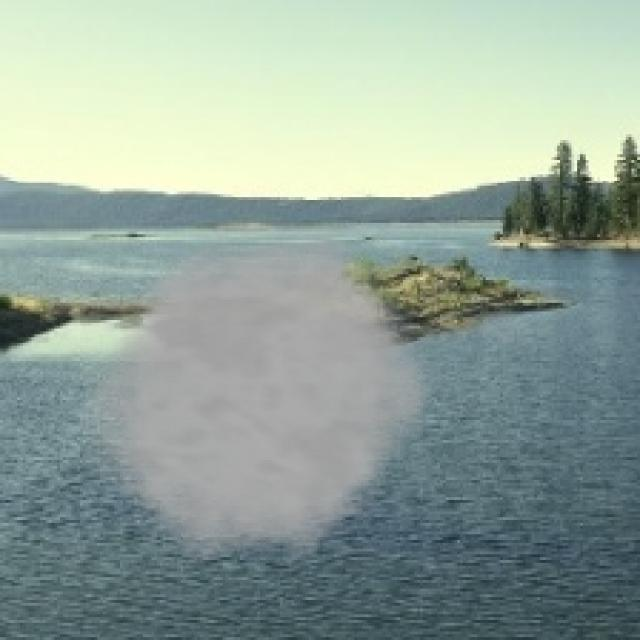smoke: (68, 217, 443, 566)
